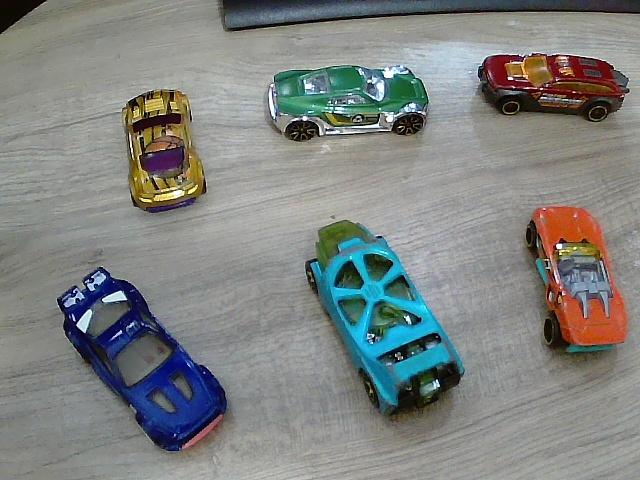Carro: (58, 268, 228, 454), (306, 221, 465, 418), (527, 207, 628, 355), (266, 66, 430, 142), (479, 54, 629, 123), (123, 90, 207, 213)
